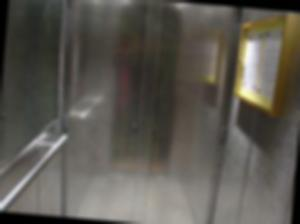Puerta: (50, 0, 231, 224)
